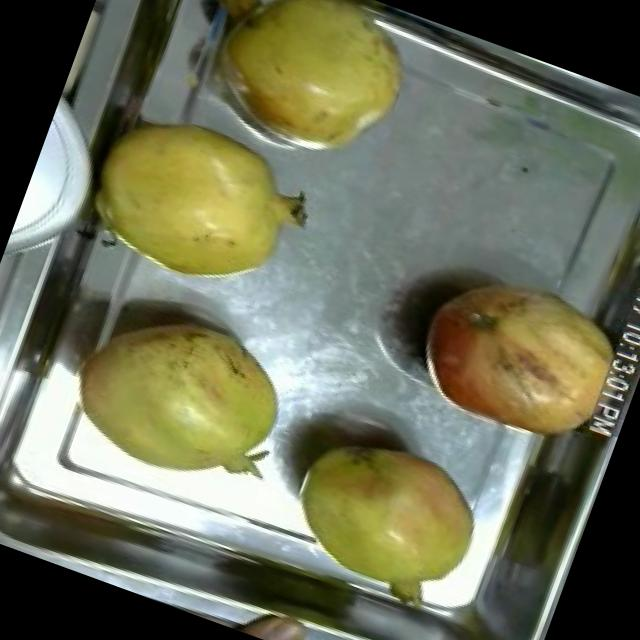fruit: (60, 77, 342, 323), (49, 280, 320, 510), (393, 245, 640, 468), (262, 408, 506, 628), (171, 0, 441, 187)
